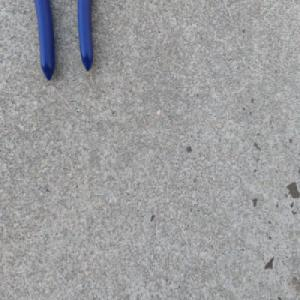Pliers: (33, 0, 94, 84)
